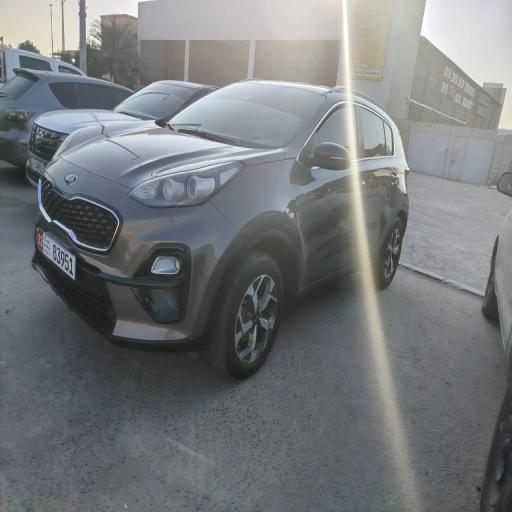license-plates: (37, 227, 75, 280), (29, 156, 45, 175)
